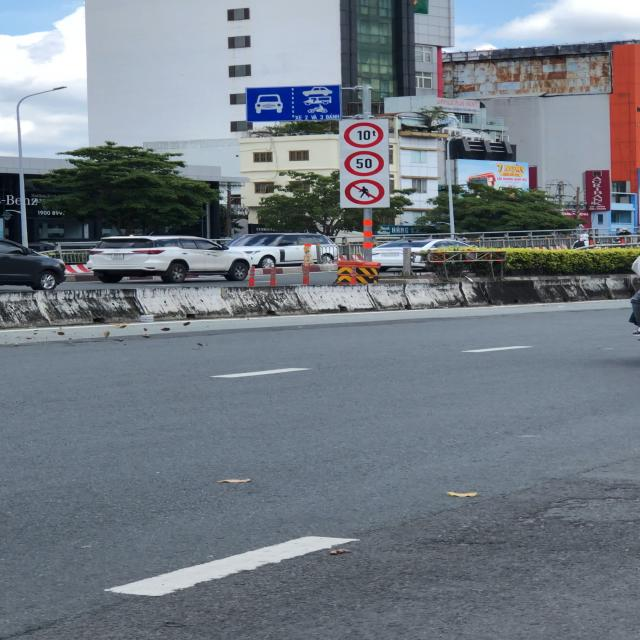Bien bao cam nguoi di bo: (344, 178, 390, 209)
Bien bao toc do toi da cho phep: (344, 149, 387, 178)
